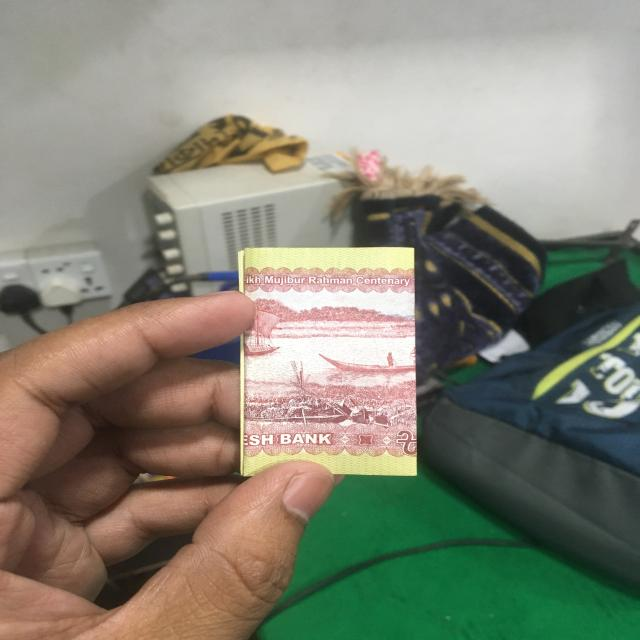Taka: (238, 250, 418, 473)
